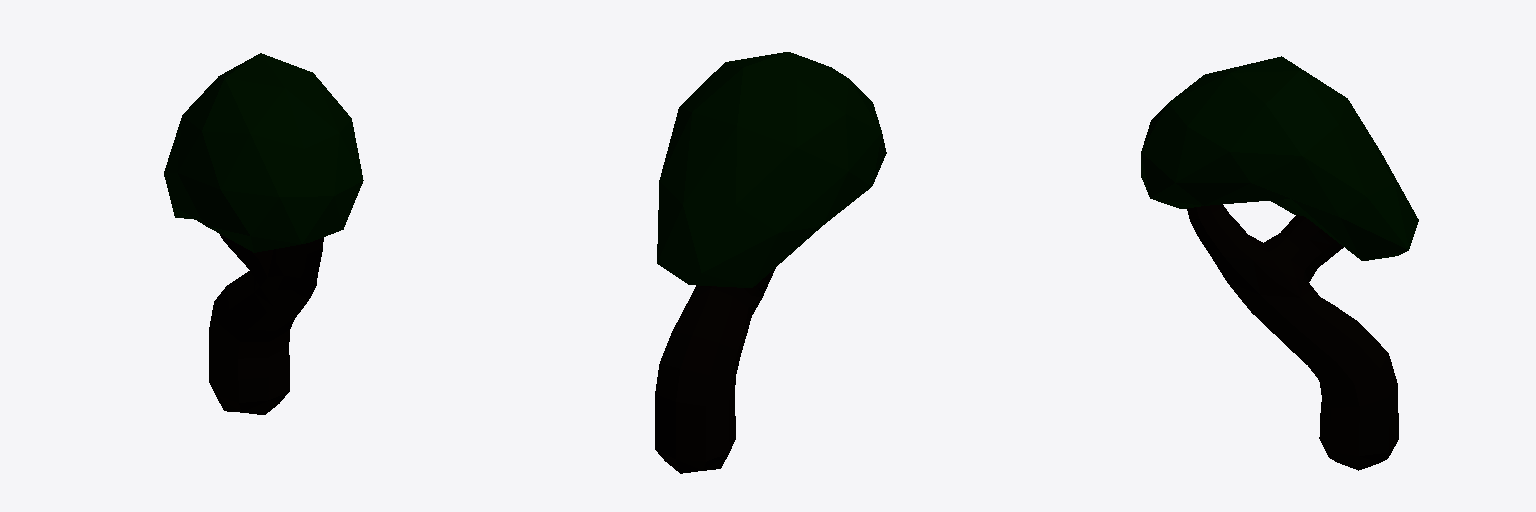
File: vegetaux_arbre2.obj
3 views of the same model, side by side, from view 1: azimuth 30°, elevation 25°; view 2: azimuth 150°, elevation 25°; view 3: azimuth 270°, elevation 25° (orthographic).
Parts seen in each view (by area): view 1: Icosphere.001, Plane.001; view 2: Icosphere.001, Plane.001; view 3: Icosphere.001, Plane.001.
Boxes of the visible parts, x1,y1,x2,y2 form: Icosphere.001: [164, 53, 363, 252]; Plane.001: [209, 234, 323, 414]; Icosphere.001: [657, 52, 886, 287]; Plane.001: [655, 268, 775, 473]; Icosphere.001: [1141, 56, 1418, 260]; Plane.001: [1187, 204, 1398, 470].
Bounding box in the file's own units: 1.16 × 2.68 × 1.76.